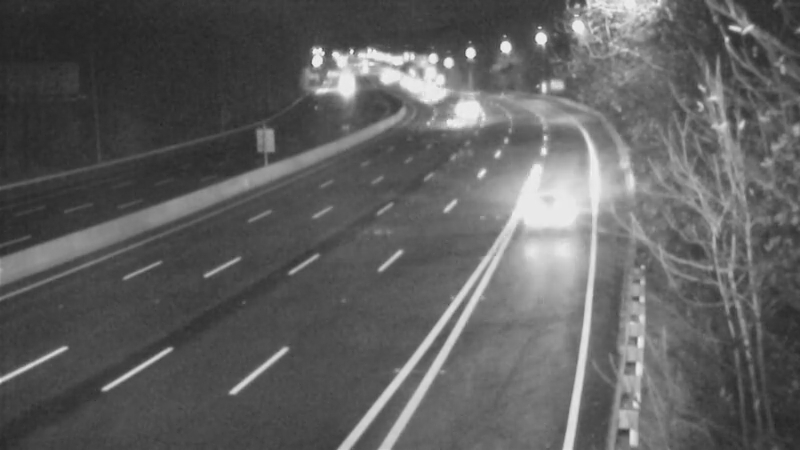vehicle: (507, 158, 587, 238), (406, 73, 456, 123), (443, 83, 493, 133), (430, 95, 480, 145)
